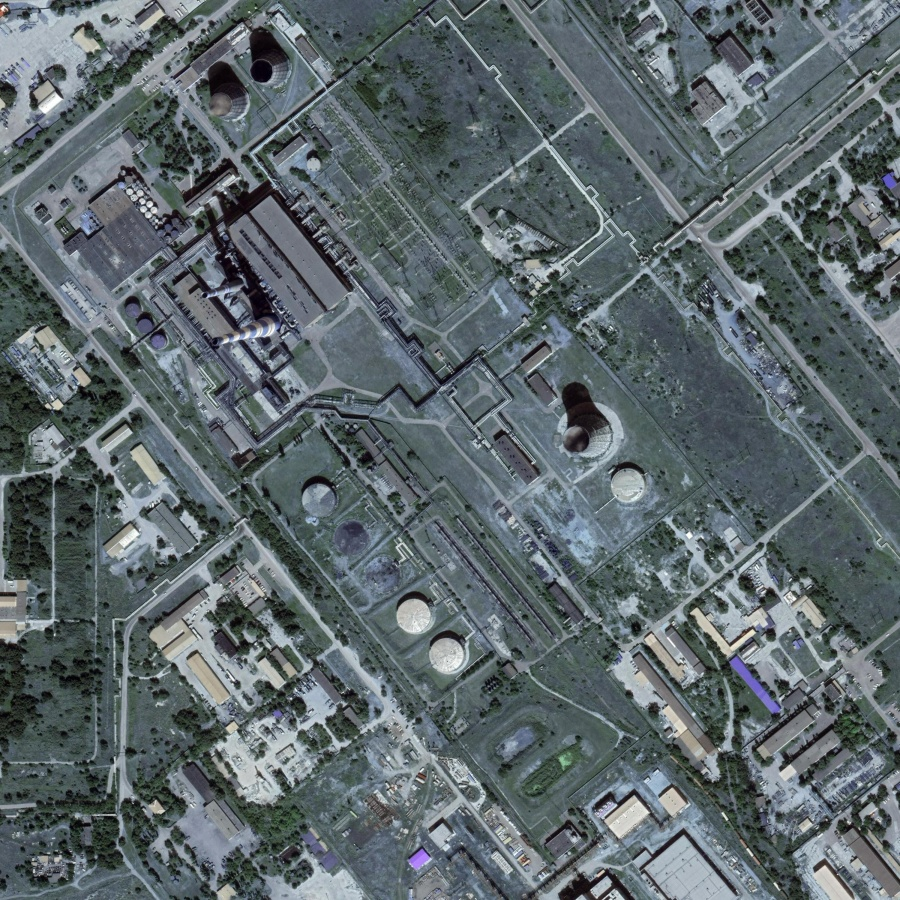PowerPlant: (179, 34, 654, 685)
